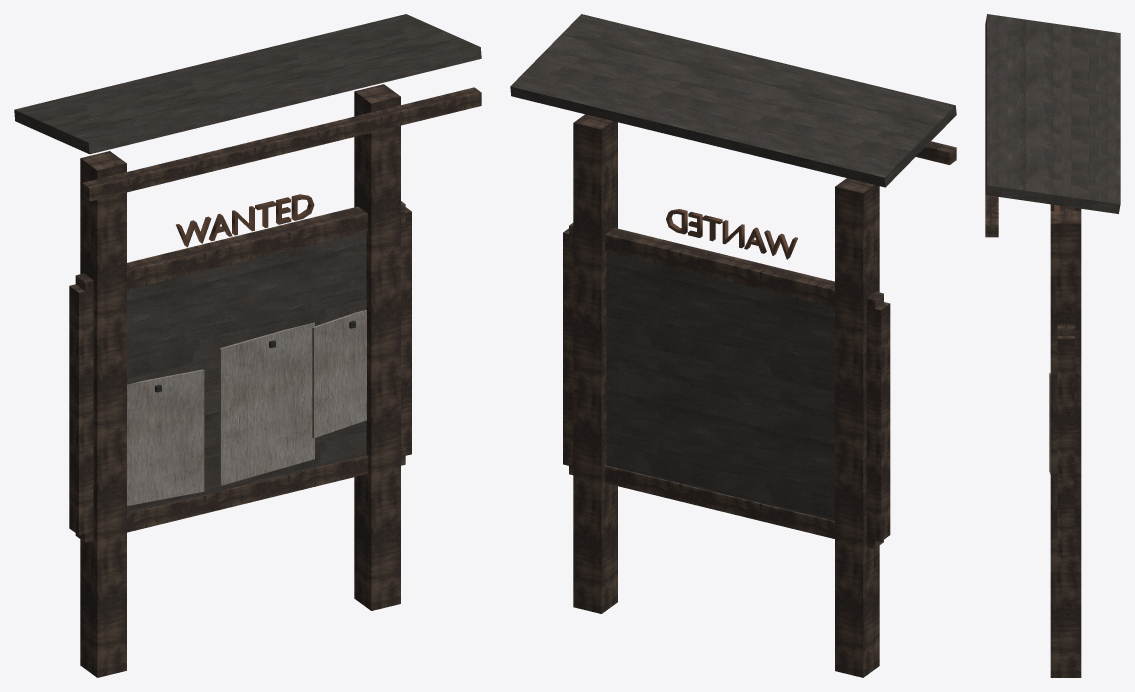
Rendered from prop_notice_board.glb.
3 renders of one model, left to right at view 1: azimuth 30°, elevation 25°; view 2: azimuth 150°, elevation 25°; view 3: azimuth 270°, elevation 25°, orthographic. The views are drawn at different scales.
Visible parts, largest first — view 1: prop_notice_board; view 2: prop_notice_board; view 3: prop_notice_board.
Boxes of the visible parts, left/top/right/bottom form: prop_notice_board: left=14, top=14, right=481, bottom=677; prop_notice_board: left=510, top=14, right=956, bottom=677; prop_notice_board: left=985, top=14, right=1120, bottom=677.
Bounding box in the file's own units: 1.86 × 2.59 × 0.6202.
5 materials, 4 textured.
